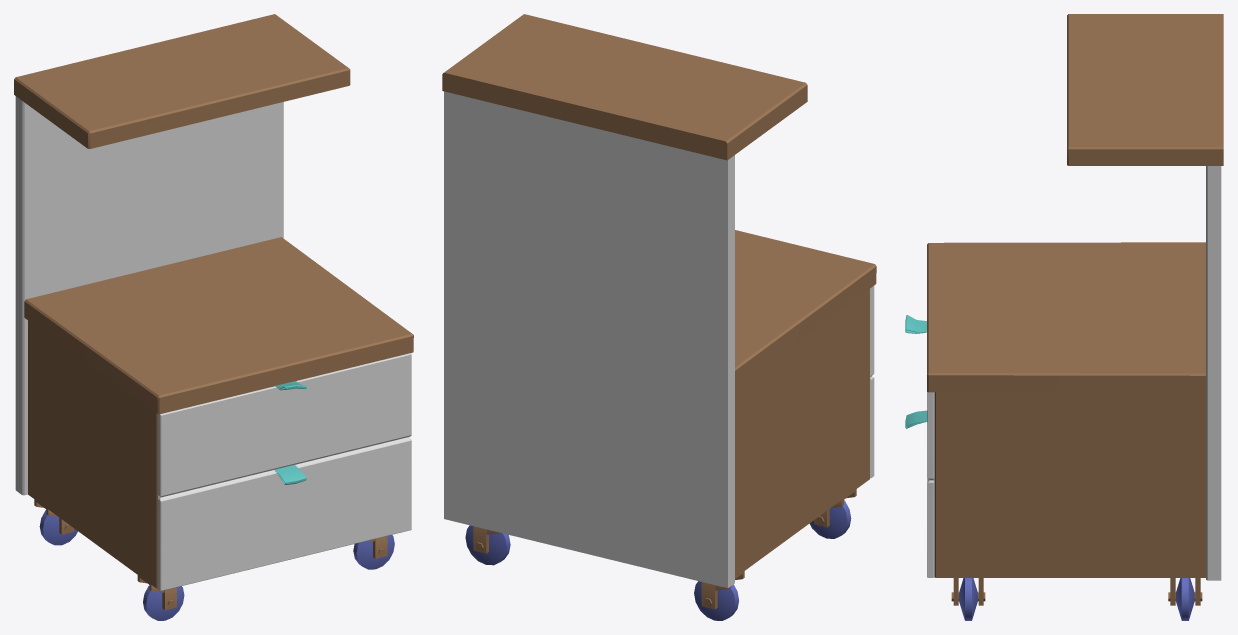
Rendered from OddaBedsideTable.FBX.
3 renders of one model, left to right at view 1: azimuth 30°, elevation 25°; view 2: azimuth 150°, elevation 25°; view 3: azimuth 270°, elevation 25°, orthographic. The views are drawn at different scales.
Visible parts, largest first — view 1: OddaBedsideTable; view 2: OddaBedsideTable; view 3: OddaBedsideTable.
Part boxes in pixels (<box>): OddaBedsideTable: <box>14,14,413,620</box>; OddaBedsideTable: <box>442,14,876,620</box>; OddaBedsideTable: <box>905,14,1223,620</box>.
Bounding box in the file's own units: 40 × 40 × 67.
